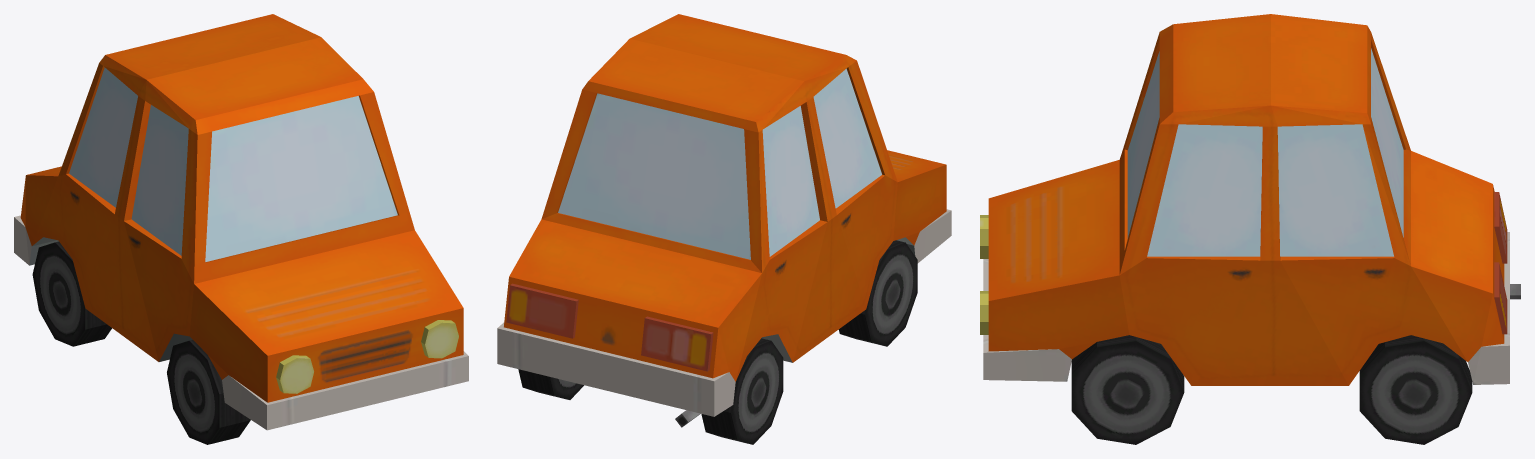
The model's file is FreeCar.glb.
3 views of the same model, side by side, from view 1: azimuth 30°, elevation 25°; view 2: azimuth 150°, elevation 25°; view 3: azimuth 270°, elevation 25° (orthographic). The views are drawn at different scales.
Visible parts, largest first — view 1: FreeCar, free_car_wheel (×2); view 2: FreeCar, free_car_wheel (×3); view 3: FreeCar, free_car_wheel (×2).
Part boxes in pixels (x1=…): FreeCar: x1=14, y1=14, x2=468, y2=430; free_car_wheel (×2): x1=32, y1=241, x2=250, y2=444; FreeCar: x1=497, y1=14, x2=951, y2=427; free_car_wheel (×3): x1=518, y1=240, x2=917, y2=444; FreeCar: x1=980, y1=14, x2=1520, y2=385; free_car_wheel (×2): x1=1071, y1=335, x2=1472, y2=444.
Size of the model in its own units: 0.2024 by 0.2578 by 0.3841.
1 material, 1 textured.
